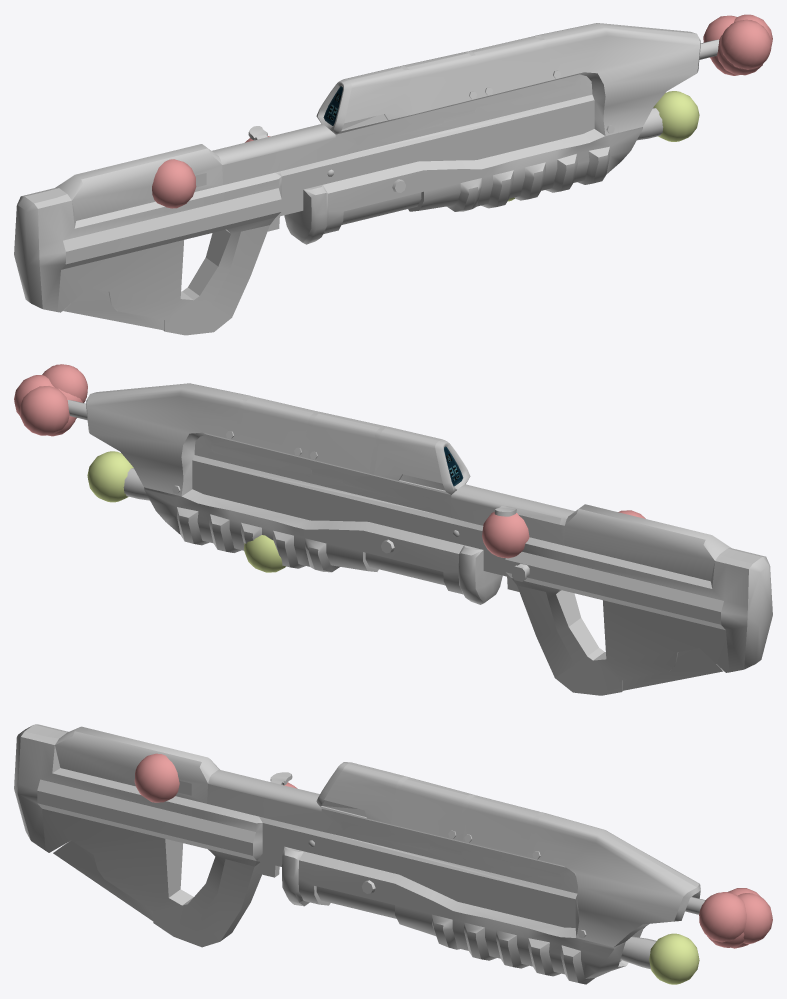
Rendered from Assault Rifle.DAE.
3 views of the same model, one above another, from view 1: azimuth 30°, elevation 25°; view 2: azimuth 150°, elevation 25°; view 3: azimuth 330°, elevation 25° (orthographic).
Parts seen in each view (by area): view 1: standard_standard1, muzzle_flash (×2), primary_ejection, flashlight; view 2: standard_standard1, muzzle_flash (×2), flashlight, weapon_stow_anchor, left_hand, primary_trigger; view 3: standard_standard1, muzzle_flash (×2), flashlight, primary_ejection, primary_trigger.
Part boxes in pixels (x1,y1,x2,y2): standard_standard1: (14, 23, 719, 335); muzzle_flash (×2): (720, 19, 771, 69); primary_ejection: (152, 159, 196, 208); flashlight: (653, 91, 699, 141); standard_standard1: (67, 383, 772, 695); muzzle_flash (×2): (20, 364, 87, 435); flashlight: (87, 451, 133, 502); weapon_stow_anchor: (482, 512, 529, 558); left_hand: (244, 535, 285, 572); primary_trigger: (14, 375, 54, 416); standard_standard1: (14, 724, 705, 984); muzzle_flash (×2): (699, 892, 746, 942); flashlight: (649, 933, 699, 984); primary_ejection: (134, 753, 179, 802); primary_trigger: (738, 893, 772, 943).
Size of the model in its own units: 33.78 by 3.49 by 9.19.
